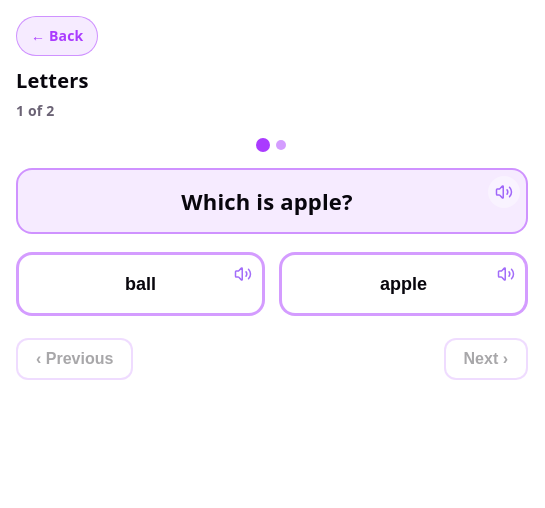
Test case: BundlePlayer — multiple choice › shows the hint after a wrong answer, then advances on a correct one
Check: the text "Which is apple?" is shown, box left=181, top=188, right=353, bottom=214
# Wrong answer → "Try again!" + hint revealed.
Click the button "ball" at (140, 284), box left=16, top=252, right=265, bottom=316
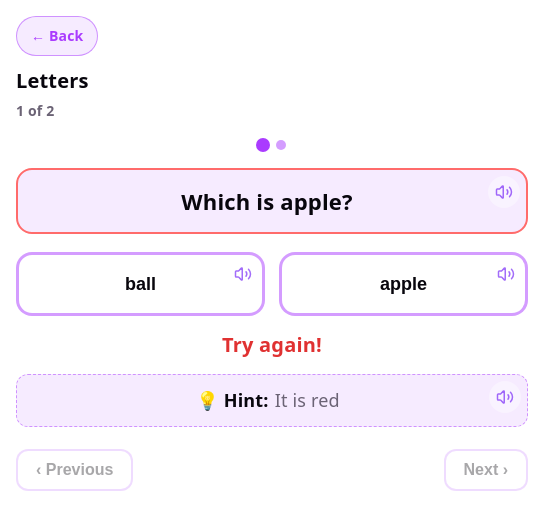
Check: the text "Try again!" is shown, box left=222, top=331, right=322, bottom=358
Check: the text "It is red" is shown, box left=275, top=388, right=340, bottom=414
# Correct answer → advance to the second exercise.
Click the button "apple" at (404, 284), box left=279, top=252, right=528, bottom=316
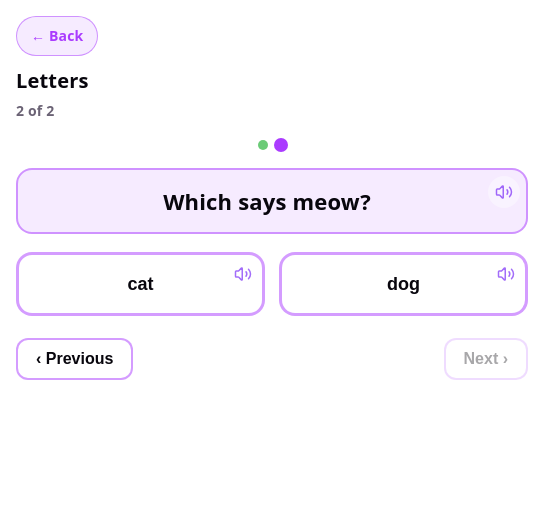
Check: the text "Which says meow?" is shown, box left=163, top=188, right=371, bottom=214
